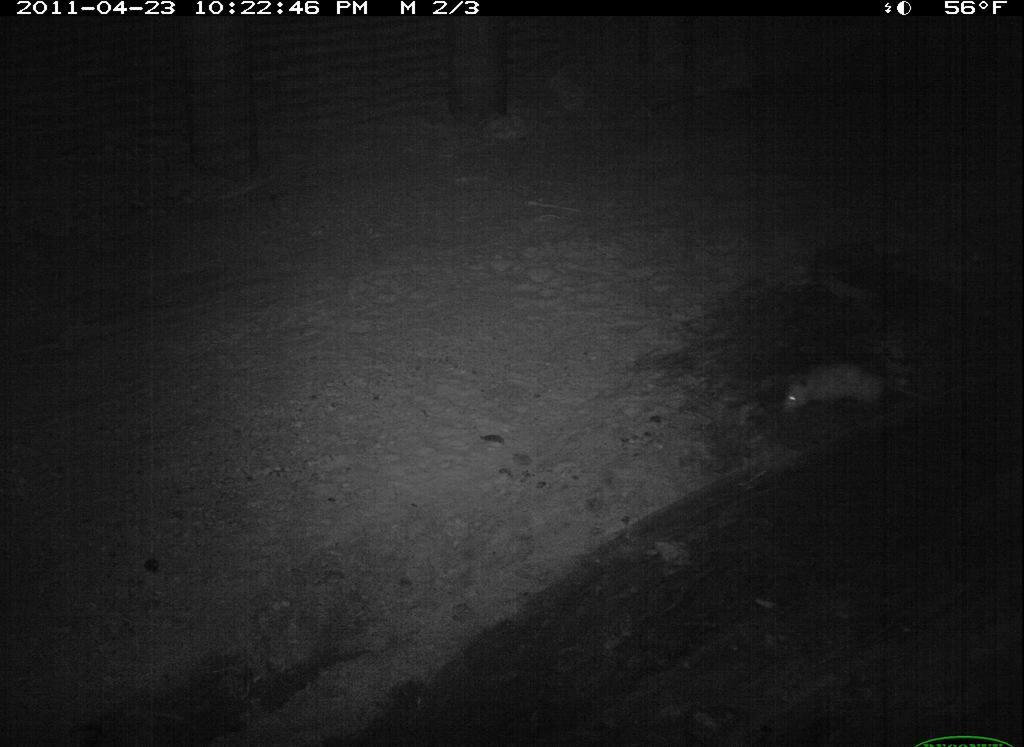opossum: (772, 353, 922, 428)
